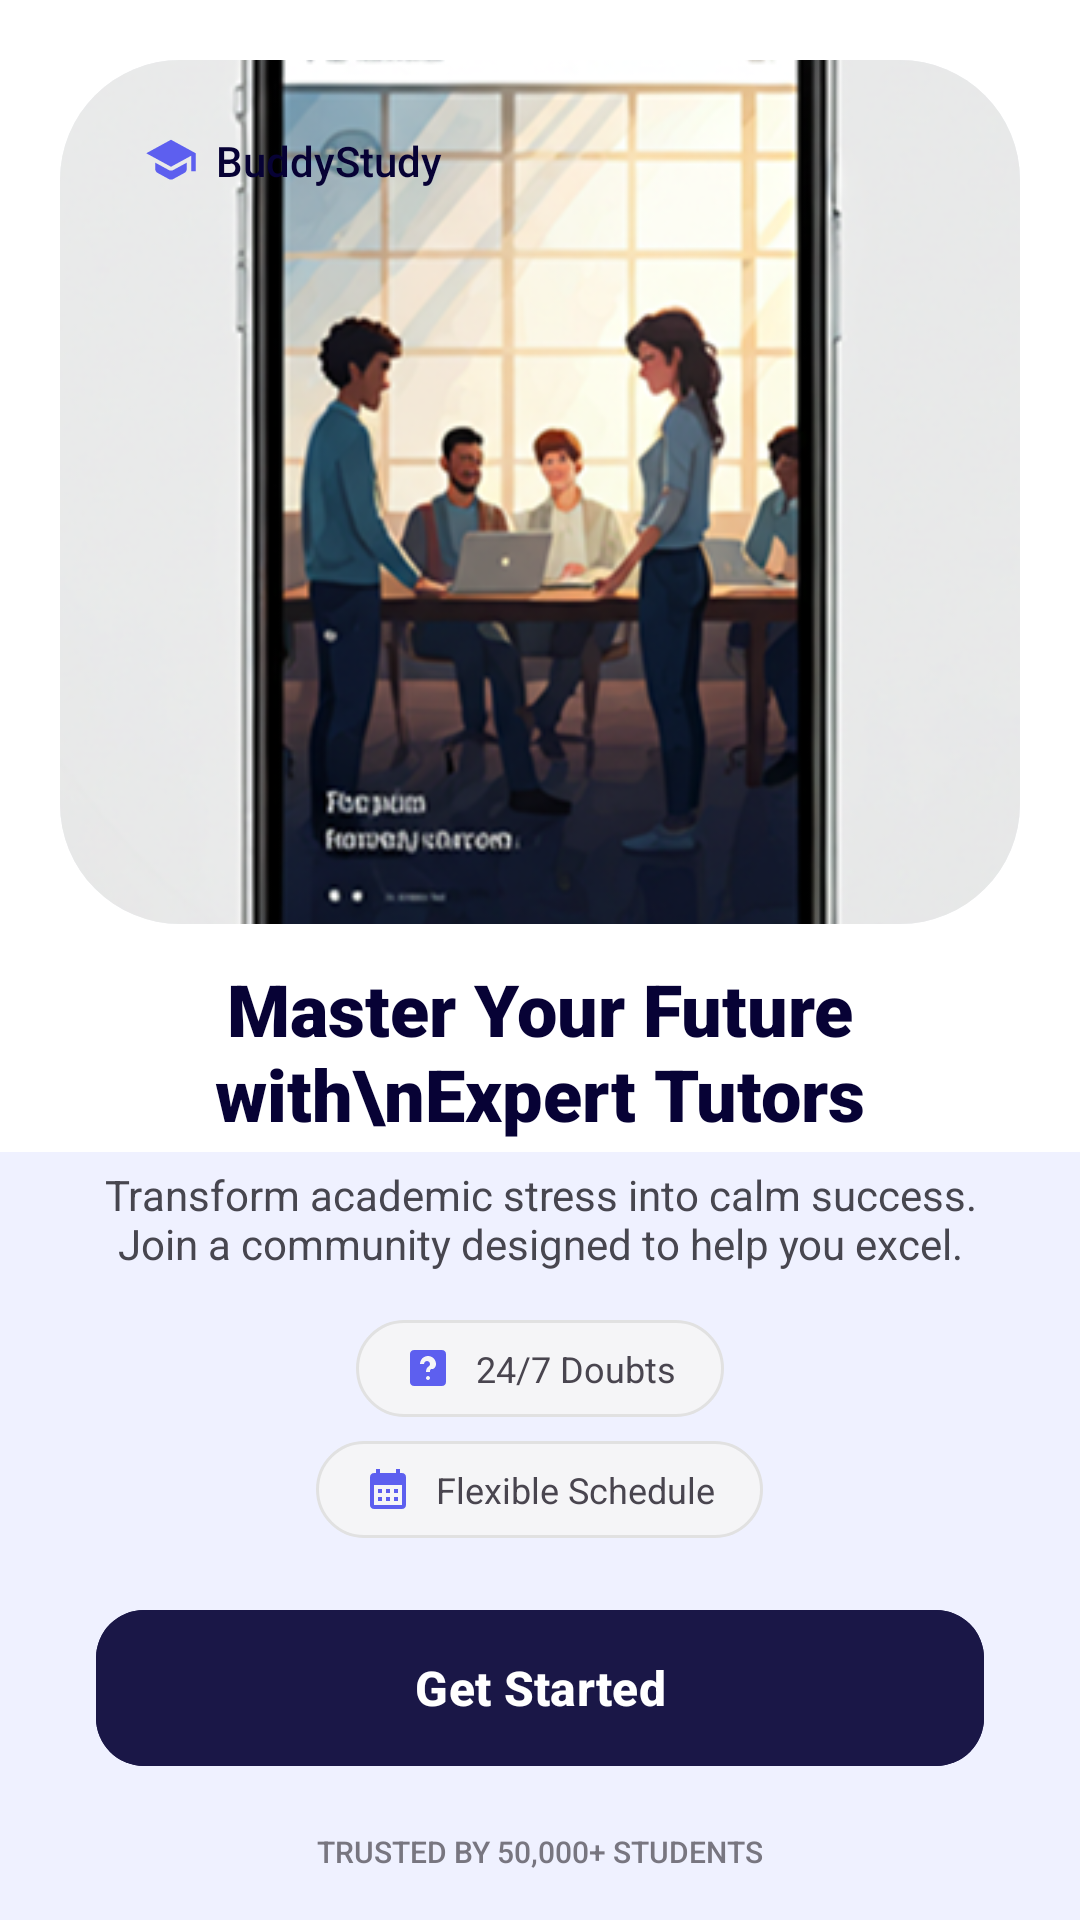

Named icons in this screenshot (1080*1920) and their bounding boxes, (x1, y1, x2, y2):
calendar: (370, 1469, 406, 1509)
grad cap: (146, 140, 196, 180)
